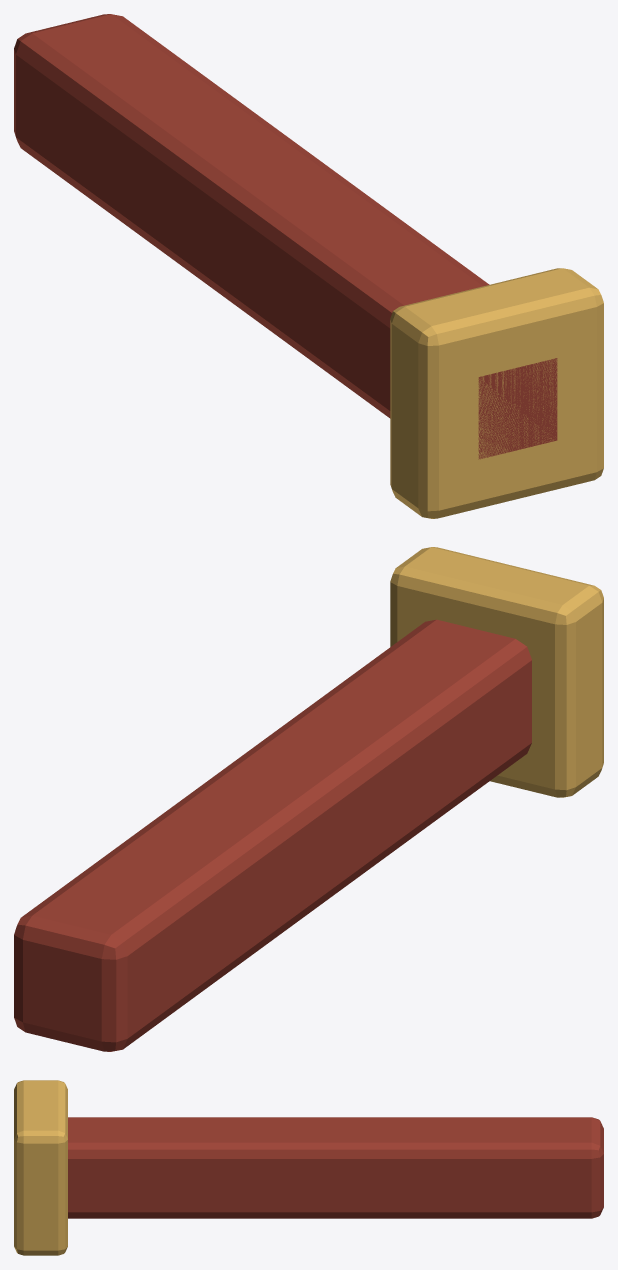
File: pillar.glb
3 views of the same model, one above another, from view 1: azimuth 30°, elevation 25°; view 2: azimuth 150°, elevation 25°; view 3: azimuth 270°, elevation 25° (orthographic). The views are drawn at different scales.
Parts seen in each view (by area): view 1: 立柱, 柱础; view 2: 立柱, 柱础; view 3: 立柱, 柱础.
Part boxes in pixels (x1,y1,x2,y2): 立柱: (14,14,557,459); 柱础: (390,268,603,518); 立柱: (14,619,531,1051); 柱础: (390,547,603,797); 立柱: (68,1117,603,1218); 柱础: (14,1080,67,1255).
Bounding box in the file's own units: 0.56 × 0.56 × 2.4.
